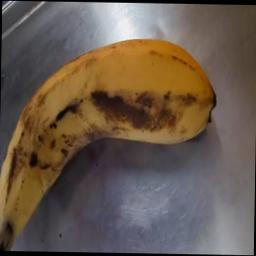Banana Overripe: (0, 38, 217, 251)
